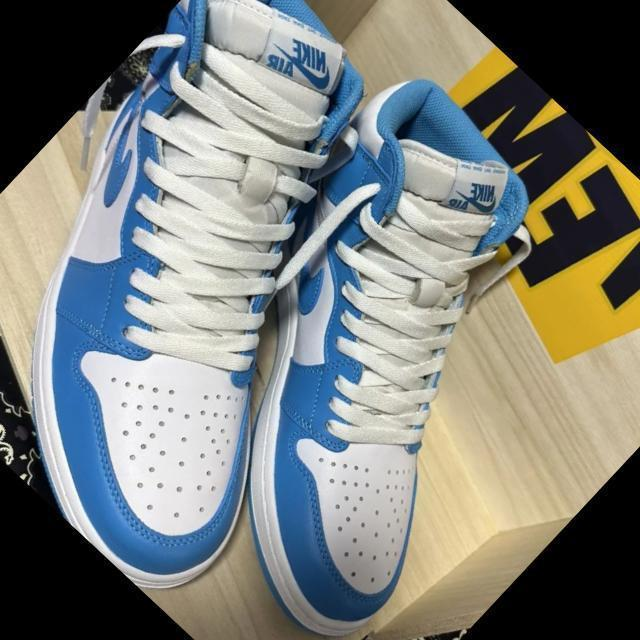nike original jordan 1: (69, 60, 640, 640), (0, 0, 529, 613)
